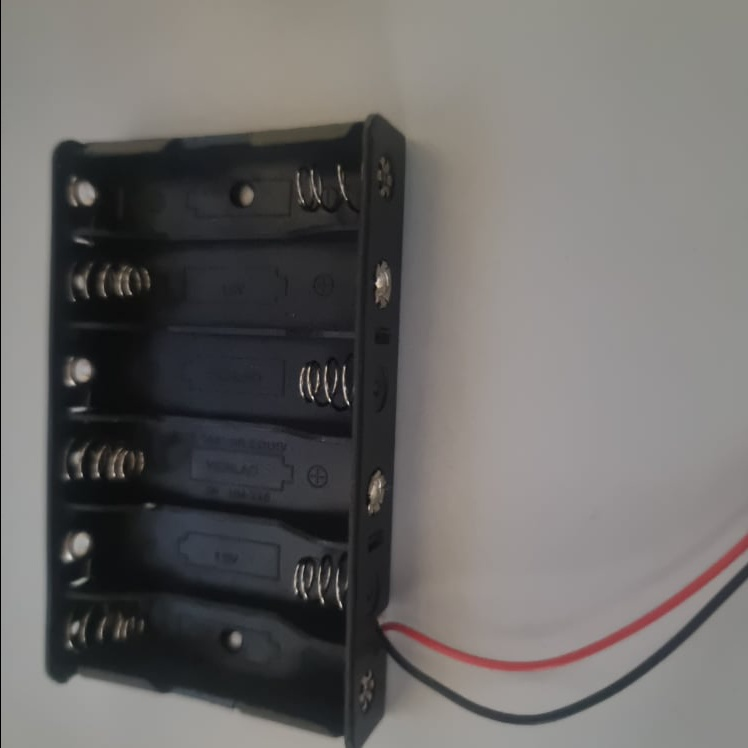BATTERY BOX: (43, 116, 404, 748)
